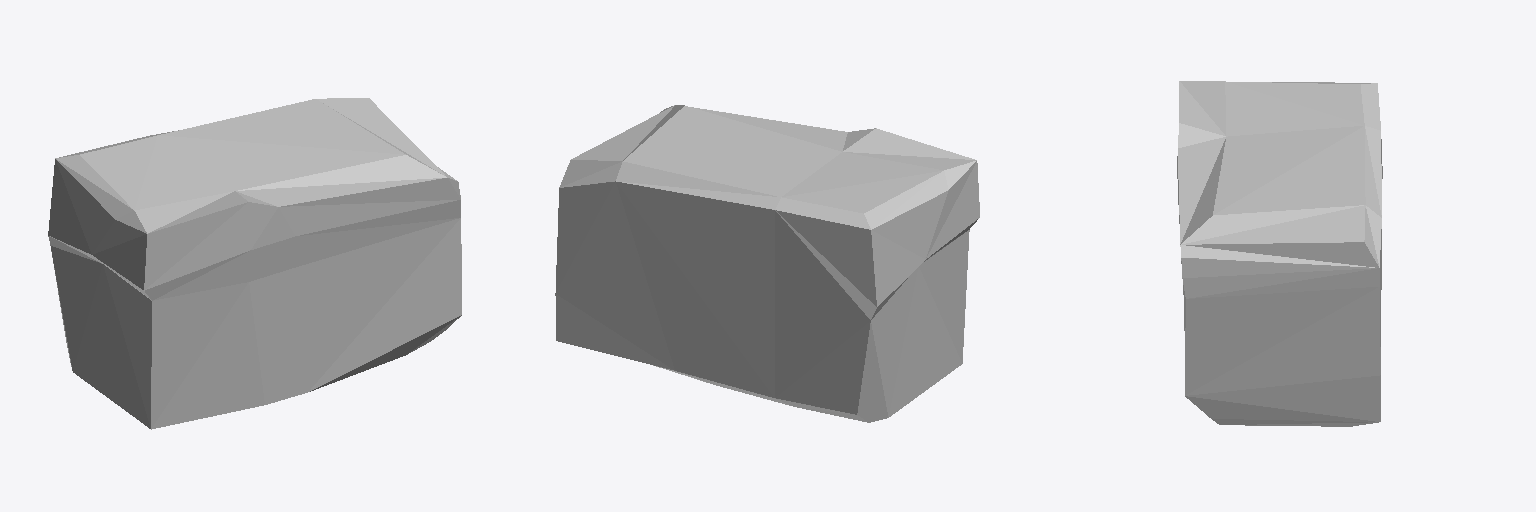
The model's file is Prop_Brick2.obj.
3 renders of one model, left to right at view 1: azimuth 30°, elevation 25°; view 2: azimuth 150°, elevation 25°; view 3: azimuth 270°, elevation 25°, orthographic.
Visible parts, largest first — view 1: Prop_Brick2; view 2: Prop_Brick2; view 3: Prop_Brick2.
Boxes of the visible parts, <box> form: Prop_Brick2: <box>48,98,461,429</box>; Prop_Brick2: <box>555,105,979,422</box>; Prop_Brick2: <box>1177,81,1382,426</box>.
Size of the model in its own units: 0.3954 by 0.2449 by 0.2169.